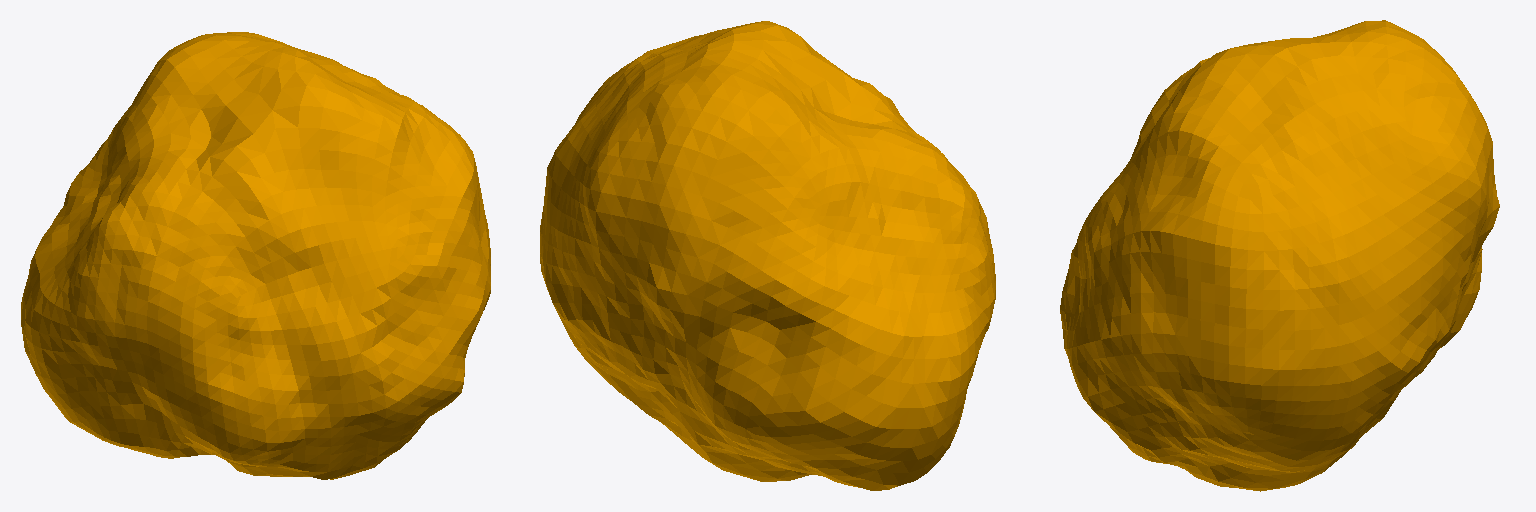
The robot description file, URDF, robot "rock":
<?xml version="1.0" ?>
<robot name="rock">
  <link name="rock">
    <inertial>
      <mass value="0.286"/>
      <origin rpy="0 0 0" xyz="0 0 0"/>
      <inertia ixx="0.000286" ixy="0" ixz="0" iyy="0.000286" iyz="0" izz="0.000286"/>
    </inertial>
    <collision name="rock_collision">
      <origin rpy="0 0 0" xyz="0 0 0"/>
      <geometry>
        <mesh filename="package://rocks/visual/62.dae" scale="1 1 1"/>
      </geometry>
    </collision>
    <visual name="rock_visual">
      <origin rpy="0 0 0" xyz="0 0 0"/>
      <geometry>
        <mesh filename="package://rocks/visual/62.dae" scale="1 1 1"/>
      </geometry>
    </visual>
  </link>
</robot>

--- Facts derived from the render (not from the file) ---
The picture shows the robot from 3 angles, left to right: view 1: azimuth 30°, elevation 25°; view 2: azimuth 150°, elevation 25°; view 3: azimuth 270°, elevation 25°; orthographic projection.
Model rock with 1 links and 0 joints (none), rooted at rock, posed all joints at 0.
Links seen in each view (by area): view 1: rock; view 2: rock; view 3: rock.
Boxes of the visible links, left/top/right/bottom form: rock: left=21, top=32, right=490, bottom=479; rock: left=540, top=21, right=995, bottom=490; rock: left=1060, top=20, right=1499, bottom=491.
Size in the robot's own frame: 0.0962 by 0.0816 by 0.0908 metres.
Meshes: 1 distinct files referenced, 1 mesh visuals loaded (1 Collada DAE).